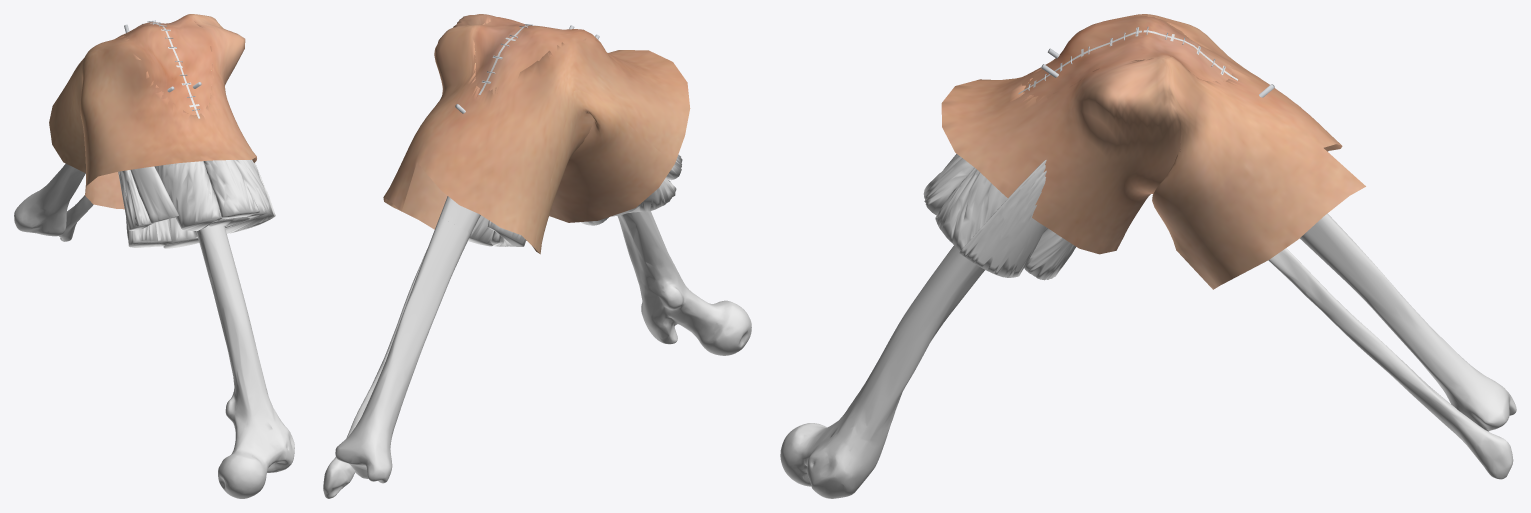
The model's file is KneeAnatomy_R.fbx.
3 renders of one model, left to right at view 1: azimuth 30°, elevation 25°; view 2: azimuth 150°, elevation 25°; view 3: azimuth 270°, elevation 25°, orthographic. The views are drawn at different scales.
Parts seen in each view (by area): view 1: KneeSkin, FemurShaft, Quadriceps, TibiaShaft, PesAnserinus, Hamstrings, KneeSkin_Open, Fibula, SiteMarking; view 2: KneeSkin, TibiaShaft, FemurShaft, Fibula, KneeSkin_Open, Gastrocnemius, ProximalTibia, Hamstrings; view 3: KneeSkin, FemurShaft, TibiaShaft, Fibula, IliotibialTract, Quadriceps, Hamstrings, KneeSkin_Open.
Boxes of the visible parts, x1=… form: KneeSkin: x1=49, y1=14, x2=256, y2=209; FemurShaft: x1=196, y1=225, x2=294, y2=498; Quadriceps: x1=154, y1=160, x2=272, y2=233; TibiaShaft: x1=14, y1=163, x2=85, y2=236; PesAnserinus: x1=118, y1=166, x2=179, y2=230; Hamstrings: x1=126, y1=217, x2=199, y2=248; KneeSkin_Open: x1=113, y1=20, x2=217, y2=126; Fibula: x1=59, y1=195, x2=93, y2=241; SiteMarking: x1=142, y1=21, x2=199, y2=118; KneeSkin: x1=383, y1=14, x2=690, y2=254; TibiaShaft: x1=335, y1=218, x2=470, y2=483; FemurShaft: x1=617, y1=211, x2=751, y2=355; Fibula: x1=323, y1=250, x2=426, y2=498; KneeSkin_Open: x1=467, y1=15, x2=600, y2=110; Gastrocnemius: x1=468, y1=215, x2=526, y2=246; ProximalTibia: x1=439, y1=196, x2=480, y2=235; Hamstrings: x1=580, y1=178, x2=676, y2=225; KneeSkin: x1=941, y1=14, x2=1365, y2=289; FemurShaft: x1=780, y1=245, x2=984, y2=498; TibiaShaft: x1=1300, y1=213, x2=1516, y2=431; Fibula: x1=1268, y1=248, x2=1513, y2=479; IliotibialTract: x1=959, y1=160, x2=1046, y2=277; Quadriceps: x1=923, y1=154, x2=1007, y2=250; Hamstrings: x1=1024, y1=227, x2=1075, y2=280; KneeSkin_Open: x1=1009, y1=15, x2=1252, y2=108.
Bounding box in the file's own units: 0.1674 × 0.3404 × 0.4675.
